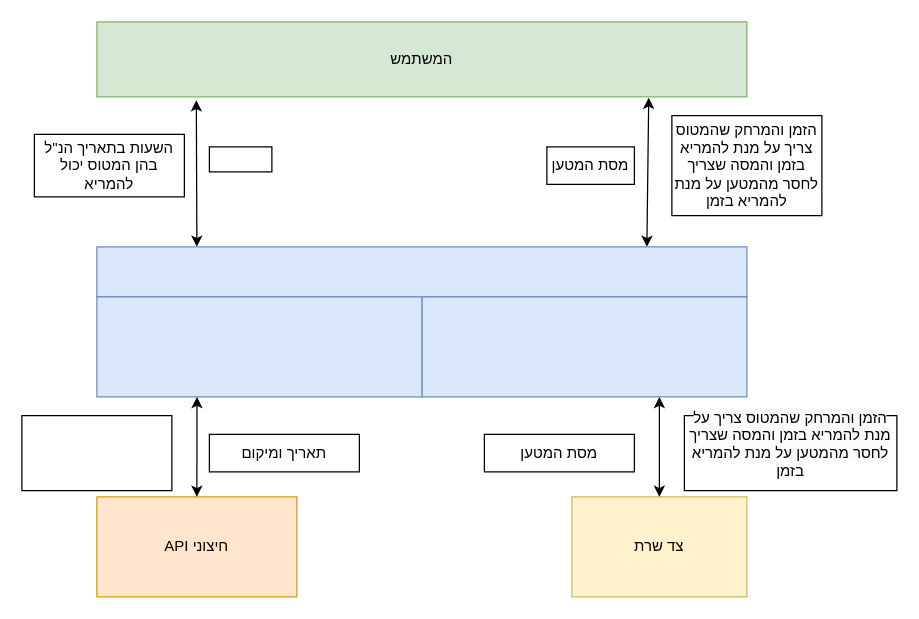
Some shapes in this 919 by 619 pixel diagram are drawn without their labels. Here are the shapes that lost their labels. From the top down, the box of each, then its label:
(208, 146, 272, 172): תאריך
(96, 246, 747, 297): צד לקוח
(96, 296, 422, 397): עמוד מזג אוויר
(421, 296, 747, 397): עמוד ראשי
(21, 414, 172, 491): הטמפרטורה בכל שעה בתאריך ובמיקום הנבחרים
